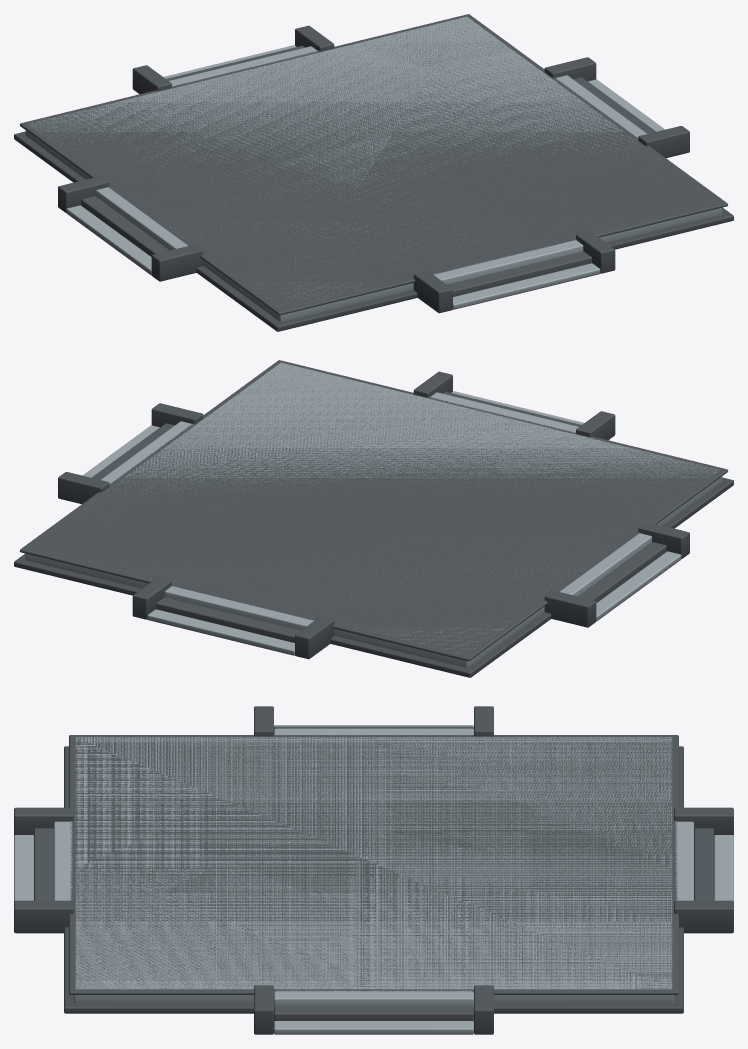
The model's file is dawn_dais.glb.
The picture shows the model from 3 angles, top to bottom: view 1: azimuth 30°, elevation 25°; view 2: azimuth 150°, elevation 25°; view 3: azimuth 270°, elevation 25°; orthographic projection. The views are drawn at different scales.
Visible parts, largest first — view 1: dawn_dais; view 2: dawn_dais; view 3: dawn_dais.
Boxes of the visible parts, left/top/right/bottom form: dawn_dais: left=14, top=14, right=733, bottom=331; dawn_dais: left=14, top=360, right=733, bottom=677; dawn_dais: left=14, top=706, right=733, bottom=1034.
Size of the model in its own units: 18 by 0.7 by 18.
1 material, 1 textured.
